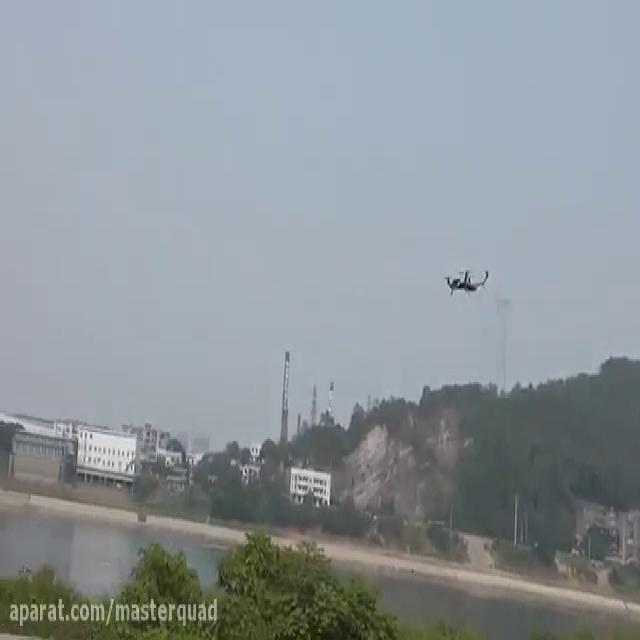drone: (440, 258, 491, 302)
